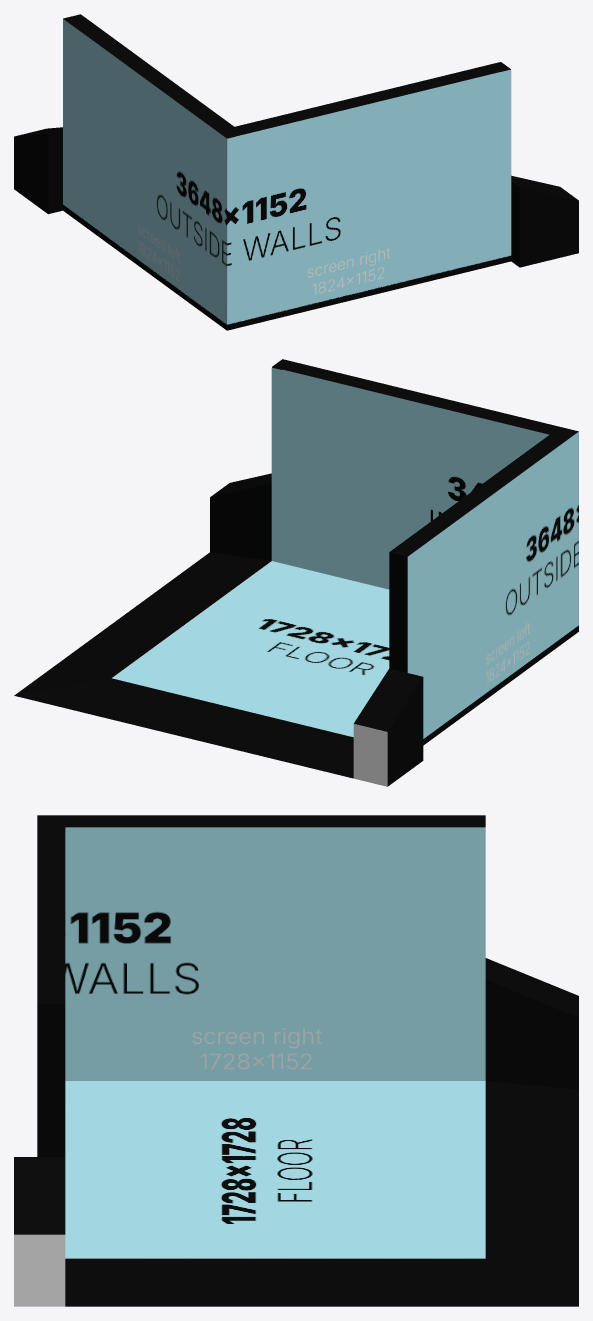
The model's file is Portal_mapped.glb.
3 renders of one model, top to bottom at view 1: azimuth 30°, elevation 25°; view 2: azimuth 150°, elevation 25°; view 3: azimuth 270°, elevation 25°, orthographic. The views are drawn at different scales.
Visible parts, largest first — view 1: Plane.003, Plane.004, PORTAL_STRUCTURE; view 2: PORTAL_STRUCTURE, Plane.001, Plane.004, Plane; view 3: Plane.002, Plane, PORTAL_STRUCTURE.
Part boxes in pixels (bbox=[...]): Plane.003: bbox=[227, 69, 511, 324]; Plane.004: bbox=[63, 19, 226, 324]; PORTAL_STRUCTURE: bbox=[14, 14, 578, 330]; PORTAL_STRUCTURE: bbox=[14, 359, 578, 786]; Plane.001: bbox=[271, 367, 548, 589]; Plane.004: bbox=[408, 432, 578, 738]; Plane: bbox=[112, 561, 389, 737]; Plane.002: bbox=[65, 827, 485, 1080]; Plane: bbox=[65, 1081, 485, 1258]; PORTAL_STRUCTURE: bbox=[14, 815, 578, 1306].
Bounding box in the file's own units: 6.05 × 3.1 × 6.05.
8 materials, 7 textured.
